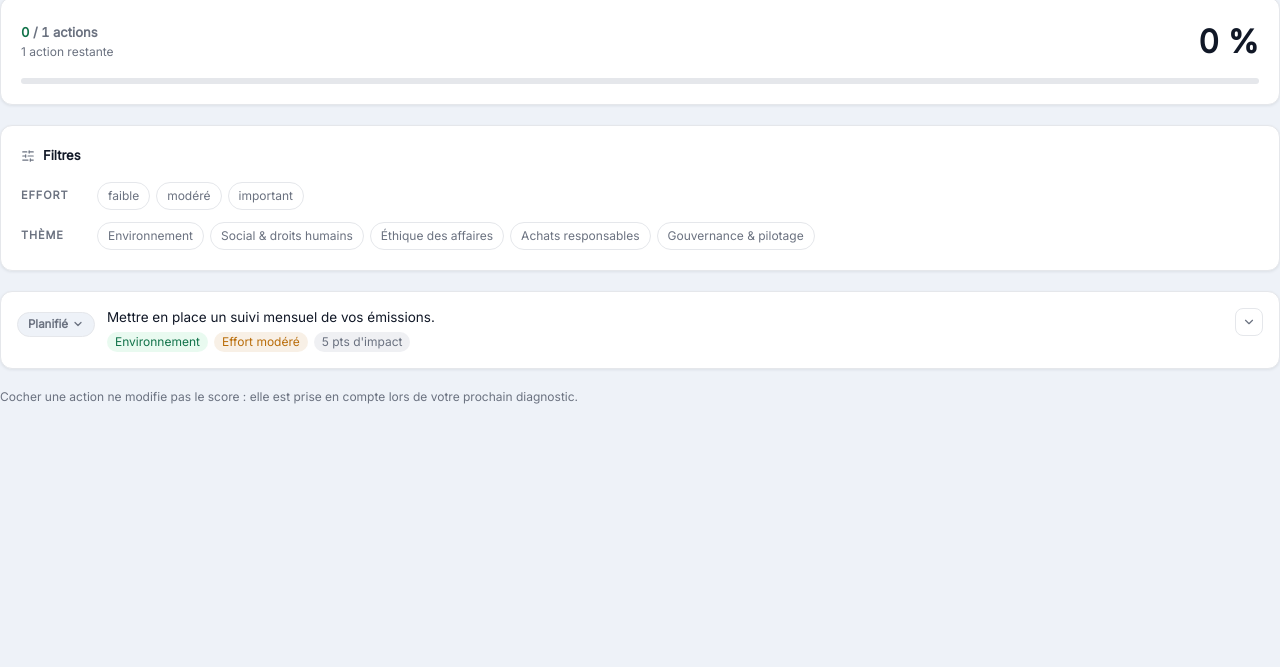
Test: PlanActionsPage › Professional : l’historique s’ouvre depuis le détail d’une action
Click the button named "Modifier les détails".
click(1249, 322)  # box [1235, 308, 1263, 336]
(page scrolled)
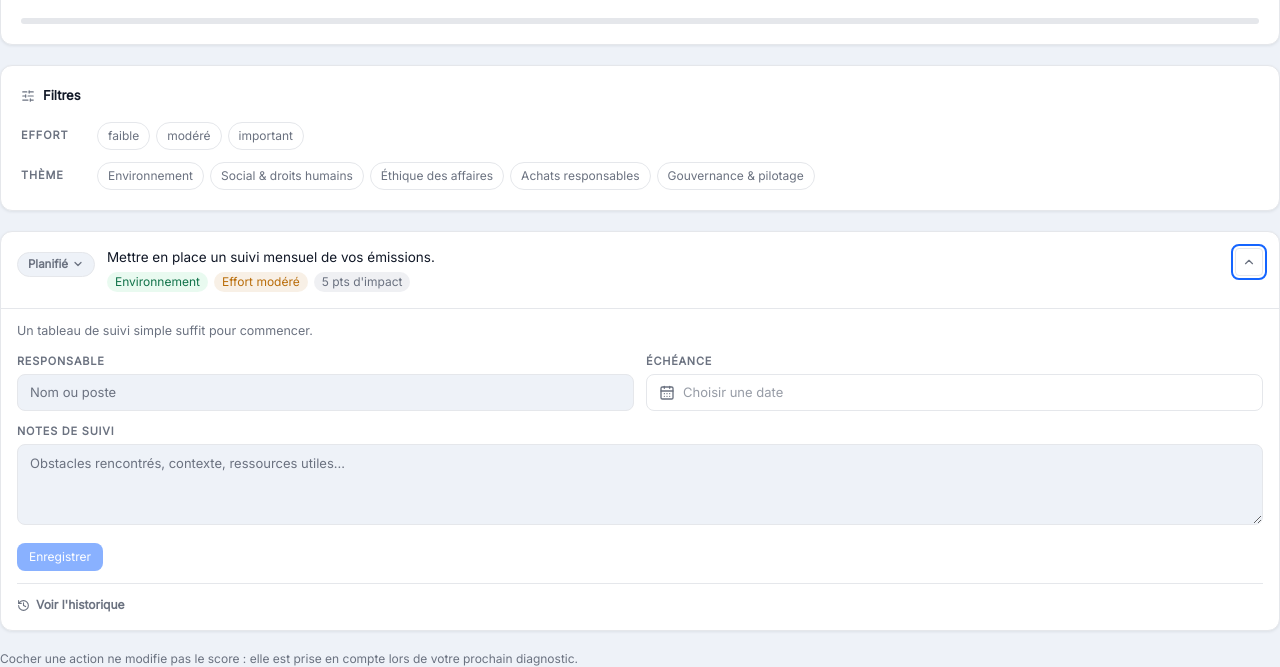
Click the button "Voir l'historique".
click(71, 605)  # box [17, 596, 124, 614]
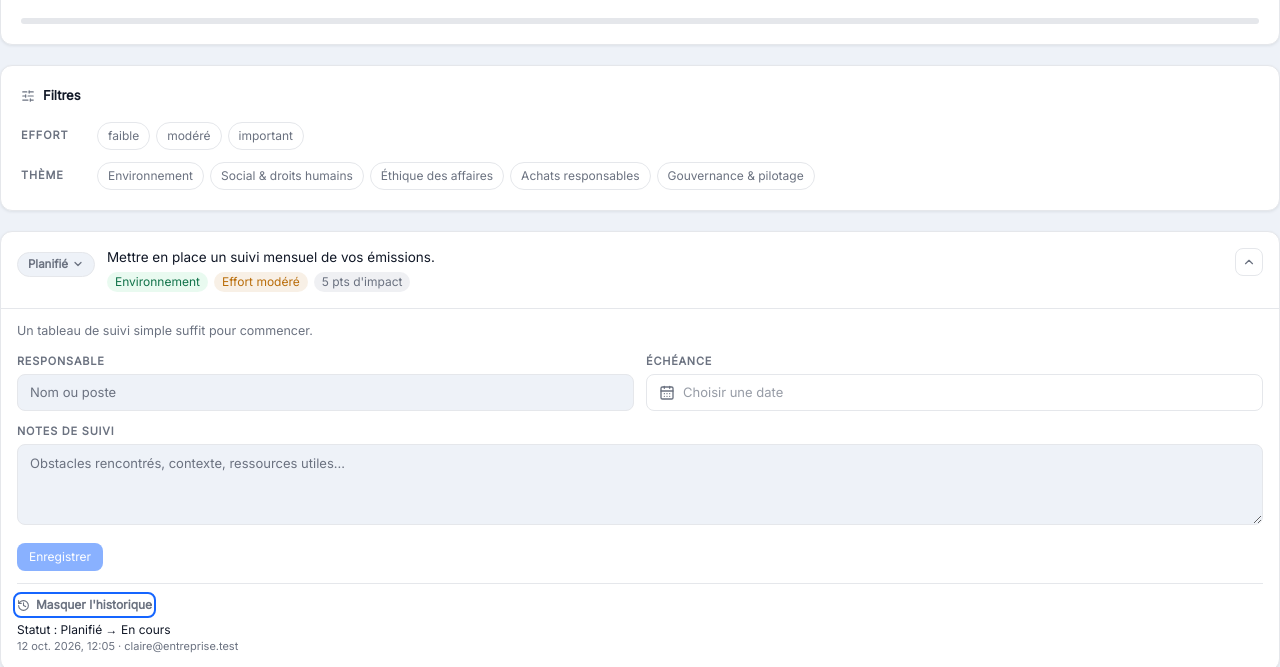
Expected: the text "Statut : Planifié → En cours" is shown, [17, 622, 171, 637]
